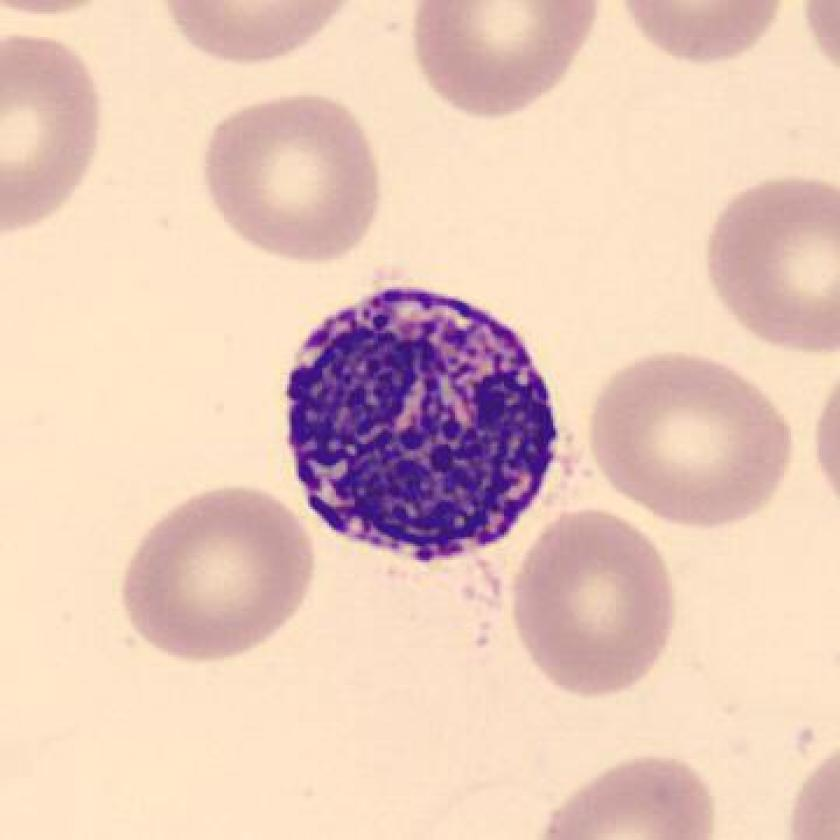basophil: (279, 269, 573, 575)
